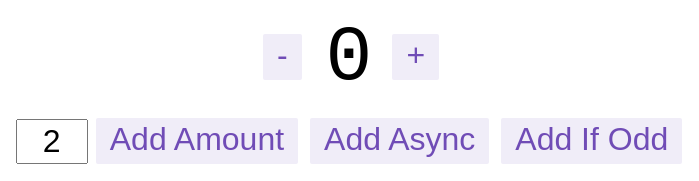
Test: Counter component › add if odd
Step 1. Click the button "Add If Odd" → [592, 141], box top-left (501, 118), bottom-right (682, 164)
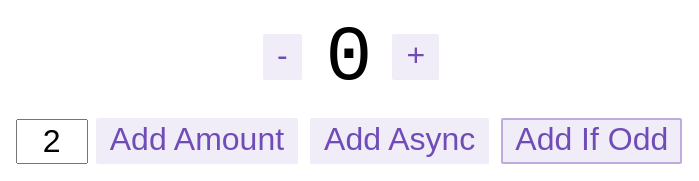
Expected: the text "0" is shown, top-left (326, 14), bottom-right (372, 102)
Step 2. Click the button named "increment value" → [416, 57], box top-left (392, 34), bottom-right (439, 80)
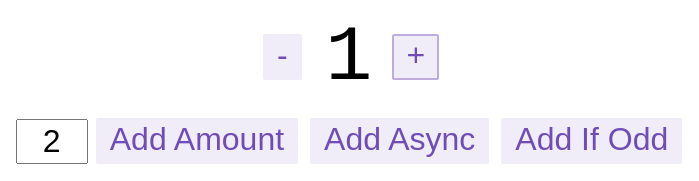
Step 3. Click the button "Add If Odd" → [592, 141], box top-left (501, 118), bottom-right (682, 164)
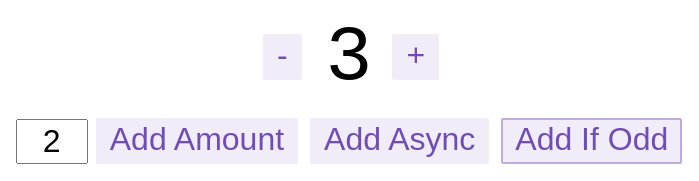
Expected: the text "3" is shown, top-left (326, 14), bottom-right (372, 102)
